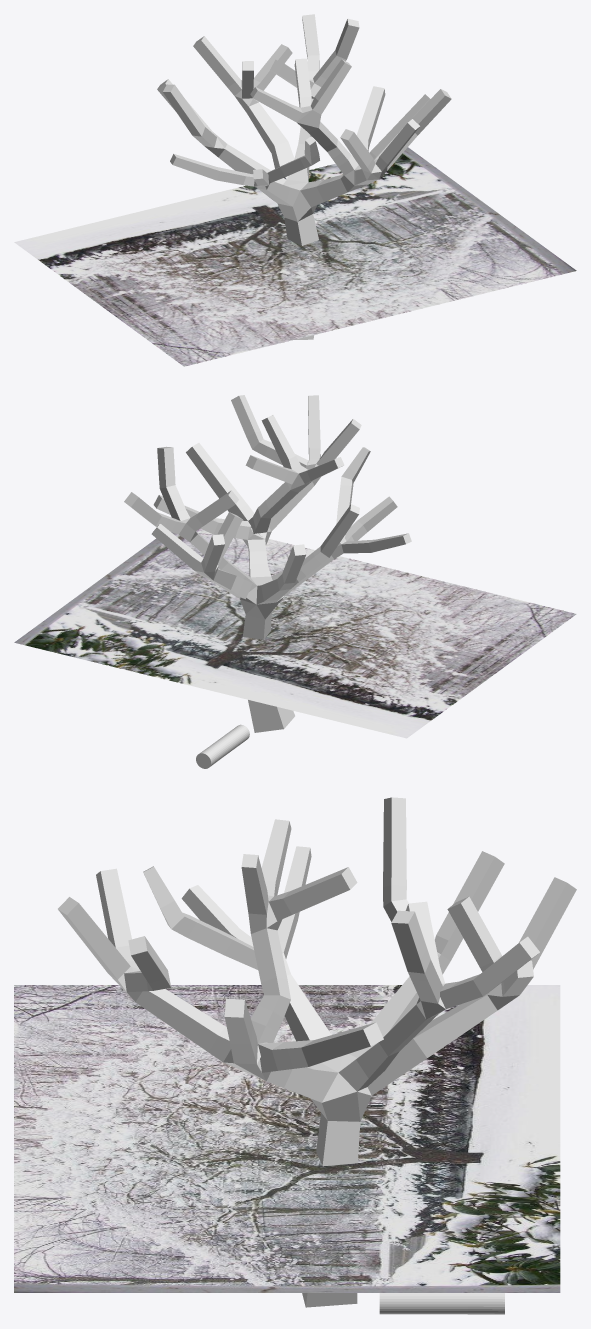
The model's file is finished tree.fbx.
3 views of the same model, one above another, from view 1: azimuth 30°, elevation 25°; view 2: azimuth 150°, elevation 25°; view 3: azimuth 270°, elevation 25° (orthographic). The views are drawn at different scales.
Visible parts, largest first — view 1: sakura tree, Cube; view 2: sakura tree, Cube, Cylinder; view 3: sakura tree, Cube, Cylinder.
Boxes of the visible parts, x1,y1,x2,y2 form: sakura tree: (14, 147, 576, 366); Cube: (157, 14, 451, 339); sakura tree: (14, 528, 576, 738); Cube: (124, 395, 411, 732); Cylinder: (196, 724, 249, 768); sakura tree: (14, 985, 560, 1292); Cube: (58, 797, 576, 1307); Cylinder: (379, 1293, 504, 1314).
Size of the model in its own units: 996 by 706 by 770.
